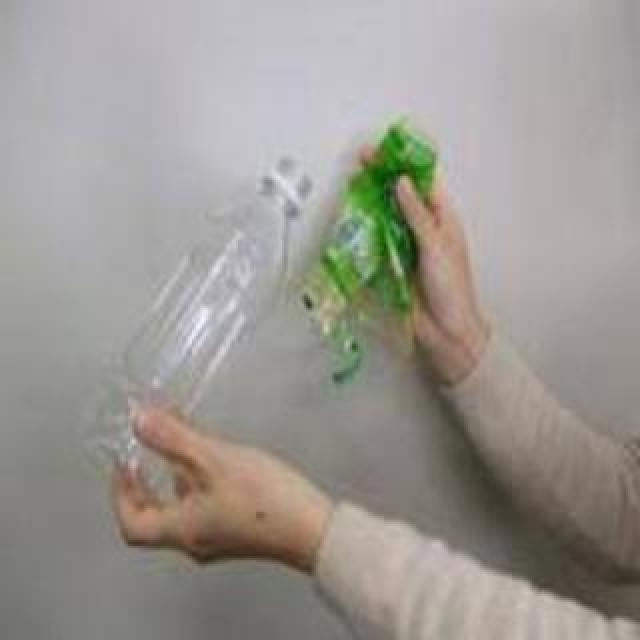Pet_Bottle: (77, 156, 319, 500)
